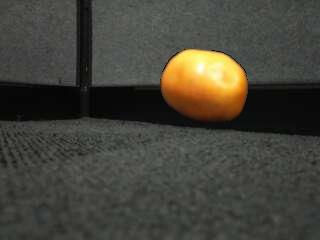Potato: (158, 46, 253, 125)
